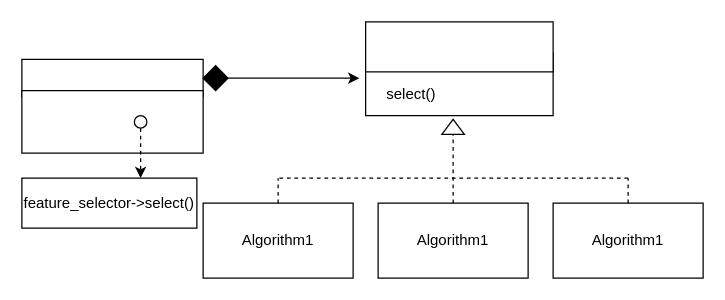
The diagram is 725 pixels wide and 300 high, and some of its shapes have lost their labels. The centre of each missing label's shape, as x and y in pixels:
3D Face Recognition: (x=112, y=77)
select_feature(): (x=112, y=121)
《Interface》 FeatureSelection: (x=458, y=46)
